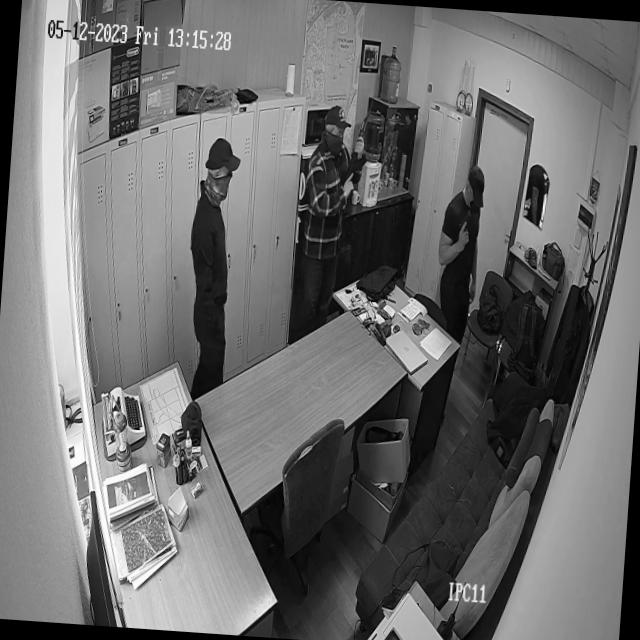gun: (334, 109, 369, 218), (455, 212, 472, 253)
person: (179, 140, 240, 394)
person with a gun: (294, 106, 371, 334), (432, 162, 487, 332)
